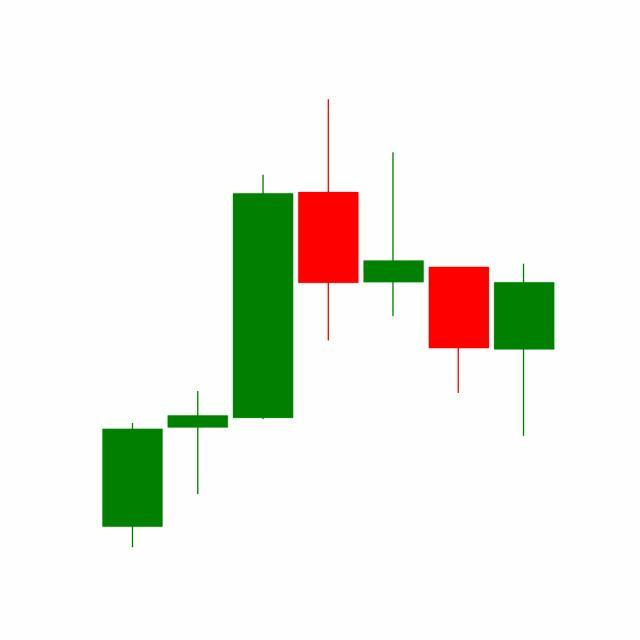Hikkake Pattern: (165, 99, 492, 499)
